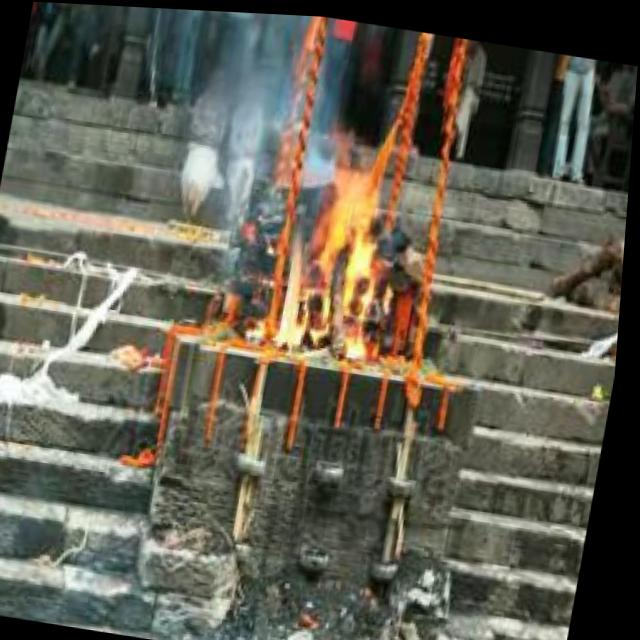Fire: (270, 117, 404, 357)
